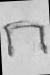D28: (3, 0, 48, 74)
